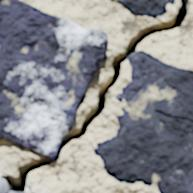brick: (0, 0, 107, 158), (94, 51, 192, 192), (113, 0, 174, 18)
broken_brick: (0, 179, 7, 192)
crack: (0, 0, 191, 192)
